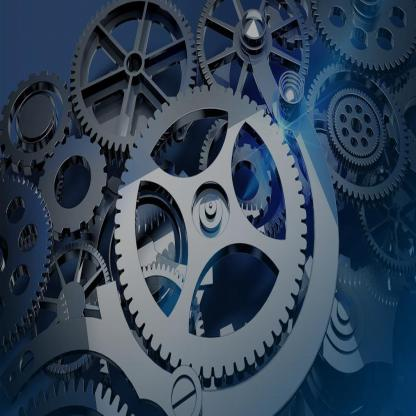FOD: (112, 77, 308, 383), (67, 2, 198, 159), (306, 57, 412, 210), (0, 165, 55, 349), (308, 0, 416, 77), (36, 131, 108, 244)
